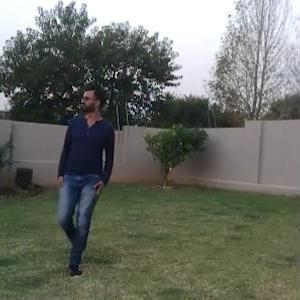follow: (49, 64, 116, 269)
